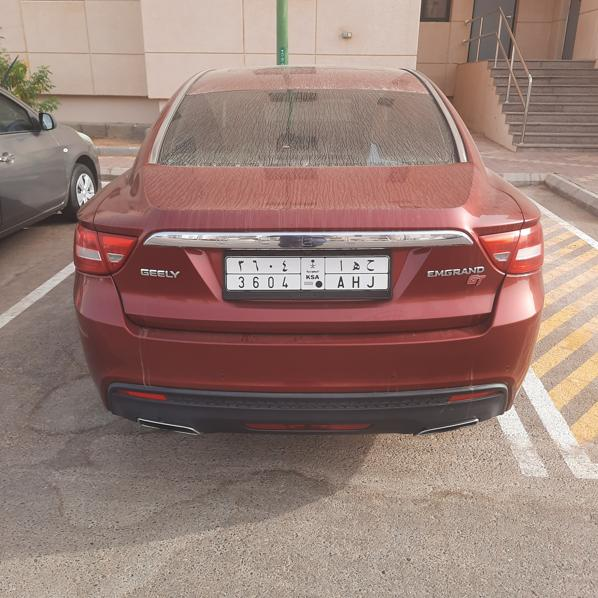numberplate: (225, 256, 390, 292)
